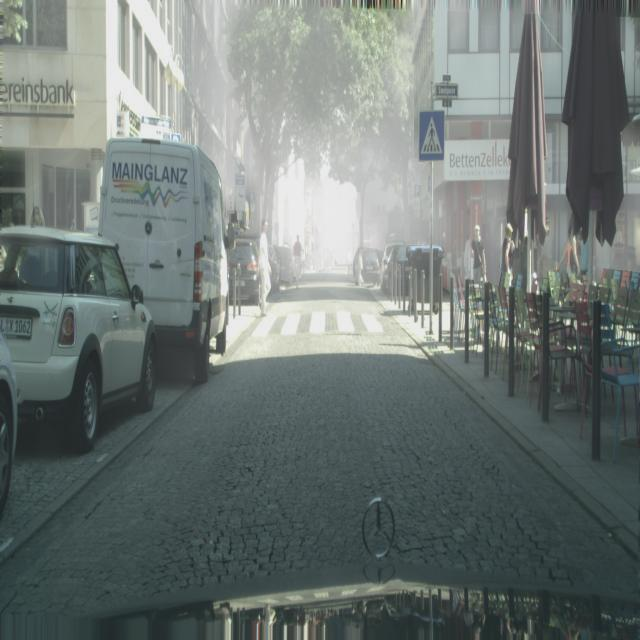person: (258, 221, 272, 314), (499, 221, 516, 288), (471, 224, 486, 285), (293, 234, 302, 281)
rider: (98, 132, 230, 384)
truck: (0, 226, 157, 449), (0, 332, 18, 521), (228, 238, 259, 302), (379, 241, 402, 294), (354, 249, 381, 287), (275, 244, 293, 286), (269, 244, 281, 295)
